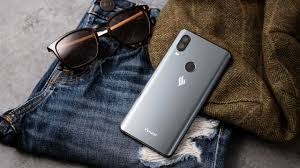vsmart: (105, 30, 233, 157)
